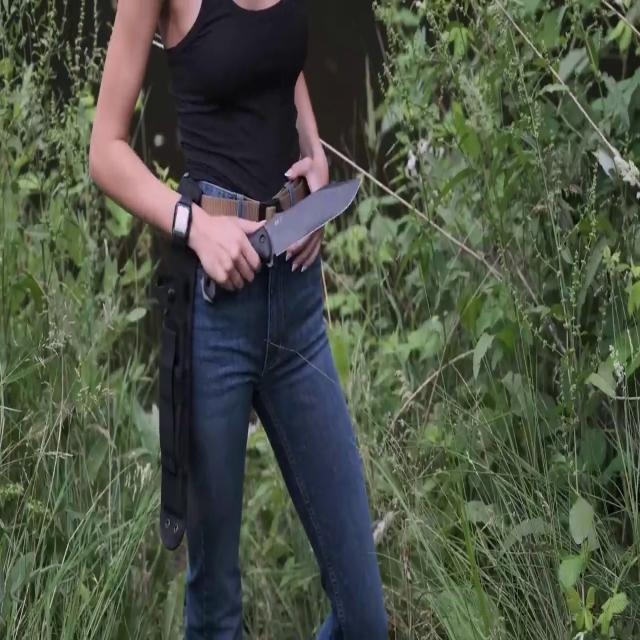Knife: (211, 169, 385, 274)
